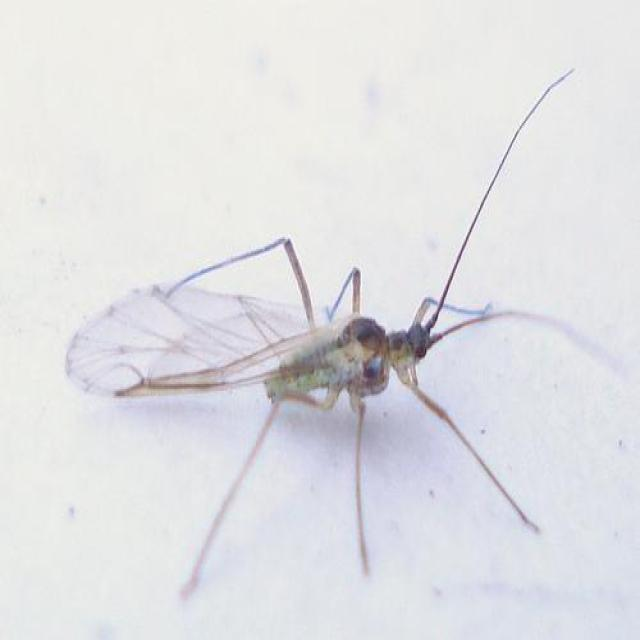Aphids: (45, 121, 631, 616)
